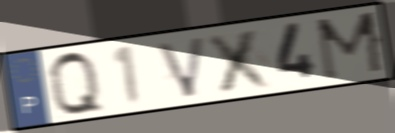1: (110, 42, 142, 109)
4: (275, 19, 322, 86)
M: (314, 8, 388, 83)
Q: (45, 48, 109, 118)
V: (153, 33, 209, 101)
X: (204, 25, 278, 95)
